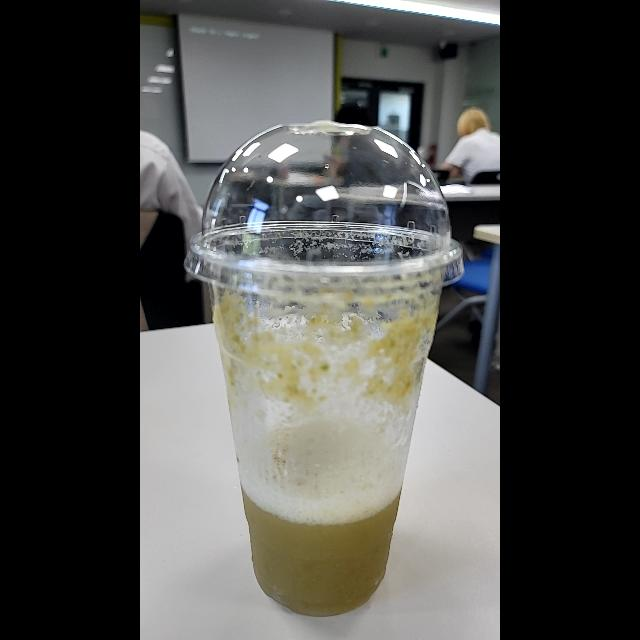plastic_cup: (181, 118, 465, 620)
plastic_cup_lid: (183, 118, 464, 308)
